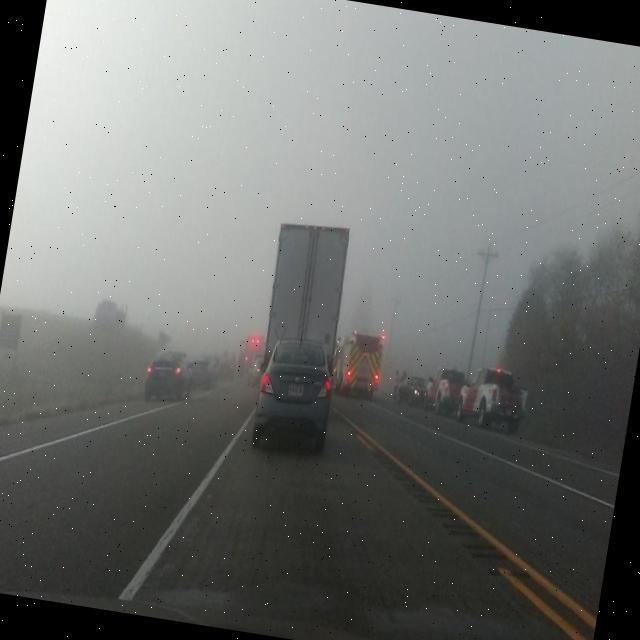bus: (255, 211, 354, 408), (334, 322, 388, 398)
car: (248, 333, 340, 460), (458, 361, 531, 429), (142, 345, 196, 407), (423, 367, 466, 412), (394, 371, 434, 410), (186, 348, 218, 389), (245, 355, 263, 389), (218, 356, 238, 381)
